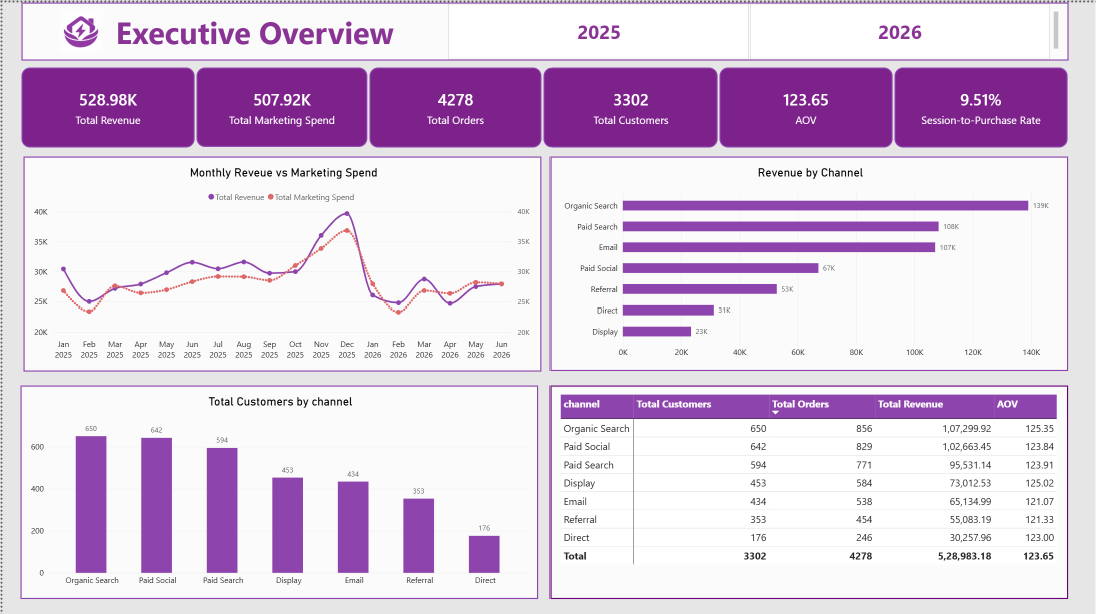

This screenshot's page, from the dashboard's own definition file:
{"tool":"powerbi","page":{"name":"Executive overview","canvas":[1920,1080],"ordinal":0},"visuals":[{"type":"textbox","box":[33.4,0,1836.9,101.9],"z":0},{"type":"card","fields":{"Values":["Measures Table.Total Revenue"]},"box":[32.5,114.7,303.8,140.5],"z":2000},{"type":"slicer","fields":{"Values":["DateTable.Year"]},"box":[762.1,0,1094,101.9],"z":2500},{"type":"card","fields":{"Values":["Measures Table.Total Orders"]},"box":[643.8,114.7,302,140.5],"z":3000},{"type":"card","fields":{"Values":["Measures Table.Total Customers"]},"box":[949.5,114.7,303.8,140.5],"z":4000},{"type":"card","fields":{"Values":["Measures Table.AOV"]},"box":[1256.9,114.7,303.8,140.5],"z":5000},{"type":"card","fields":{"Values":["Measures Table.Sessions to Purchase Rate"]},"box":[1564.3,114.7,303.8,140.5],"z":6000},{"type":"lineChart","title":"Monthly Reveue vs Marketing Spend","fields":{"Category":["DateTable.Month Label"],"Y":["Measures Table.Total Revenue"],"Y2":["Measures Table.Total Marketing Spend"]},"box":[36.9,270.4,909.7,375.8],"z":7000},{"type":"barChart","title":"Revenue by Channel","fields":{"Category":["Vsch campaigns.channel"],"Y":["Sum(Vsch orders.net_revenue)"]},"box":[960.6,270.4,909,375],"z":8000},{"type":"clusteredColumnChart","fields":{"Category":["Vsch customer_summary.channel"],"Y":["Measures Table.Total Customers"]},"box":[31.6,670.8,909,375],"z":9000},{"type":"pivotTable","fields":{"Rows":["Vsch customer_summary.channel"],"Values":["Measures Table.Total Customers","Measures Table.Total Orders","Measures Table.Total Revenue","Measures Table.AOV"]},"box":[960.6,670.8,909,375],"z":10000},{"type":"card","fields":{"Values":["Measures Table.Total Marketing Spend"]},"box":[339.9,114.7,300.2,139.6],"z":11000}]}

Visuals, with their boxes in screenshot pixels (x1, y1, x2, y2), scaled from the page's 1920x1080 canvas onto the 1096x614 screenshot:
textbox: [19,0,1068,58]
card - Measures Table.Total Revenue: [19,65,192,145]
slicer - DateTable.Year: [435,0,1060,58]
card - Measures Table.Total Orders: [368,65,540,145]
card - Measures Table.Total Customers: [542,65,715,145]
card - Measures Table.AOV: [717,65,891,145]
card - Measures Table.Sessions to Purchase Rate: [893,65,1066,145]
"Monthly Reveue vs Marketing Spend" lineChart: [21,154,540,367]
"Revenue by Channel" barChart: [548,154,1067,367]
clusteredColumnChart - Vsch customer_summary.channel x Measures Table.Total Customers: [18,381,537,595]
pivotTable - Vsch customer_summary.channel x Measures Table.Total Customers: [548,381,1067,595]
card - Measures Table.Total Marketing Spend: [194,65,365,145]
